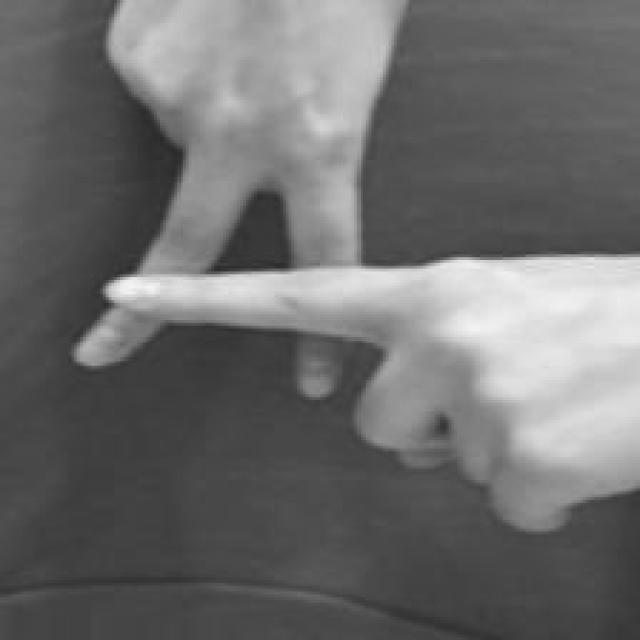A: (72, 1, 640, 538)
